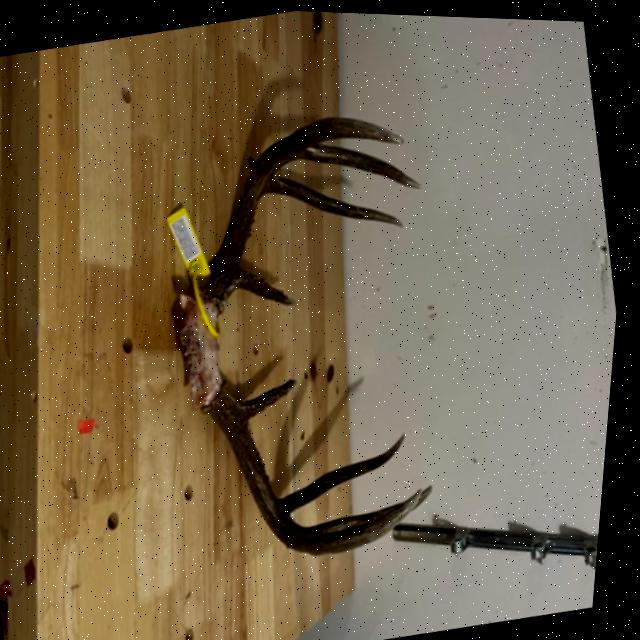L-F: (209, 376, 431, 551)
L-G1: (243, 374, 305, 423)
L-G2: (286, 427, 413, 513)
R-F: (204, 112, 409, 312)
R-G1: (240, 263, 302, 302)
R-G2: (267, 172, 408, 223)
R-G3: (299, 140, 425, 185)
